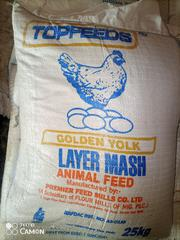feed_bag: (1, 2, 180, 240)
